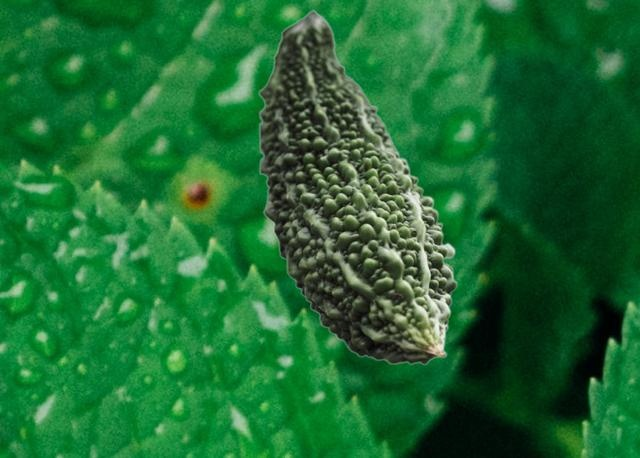ampalaya: (258, 9, 457, 364)
